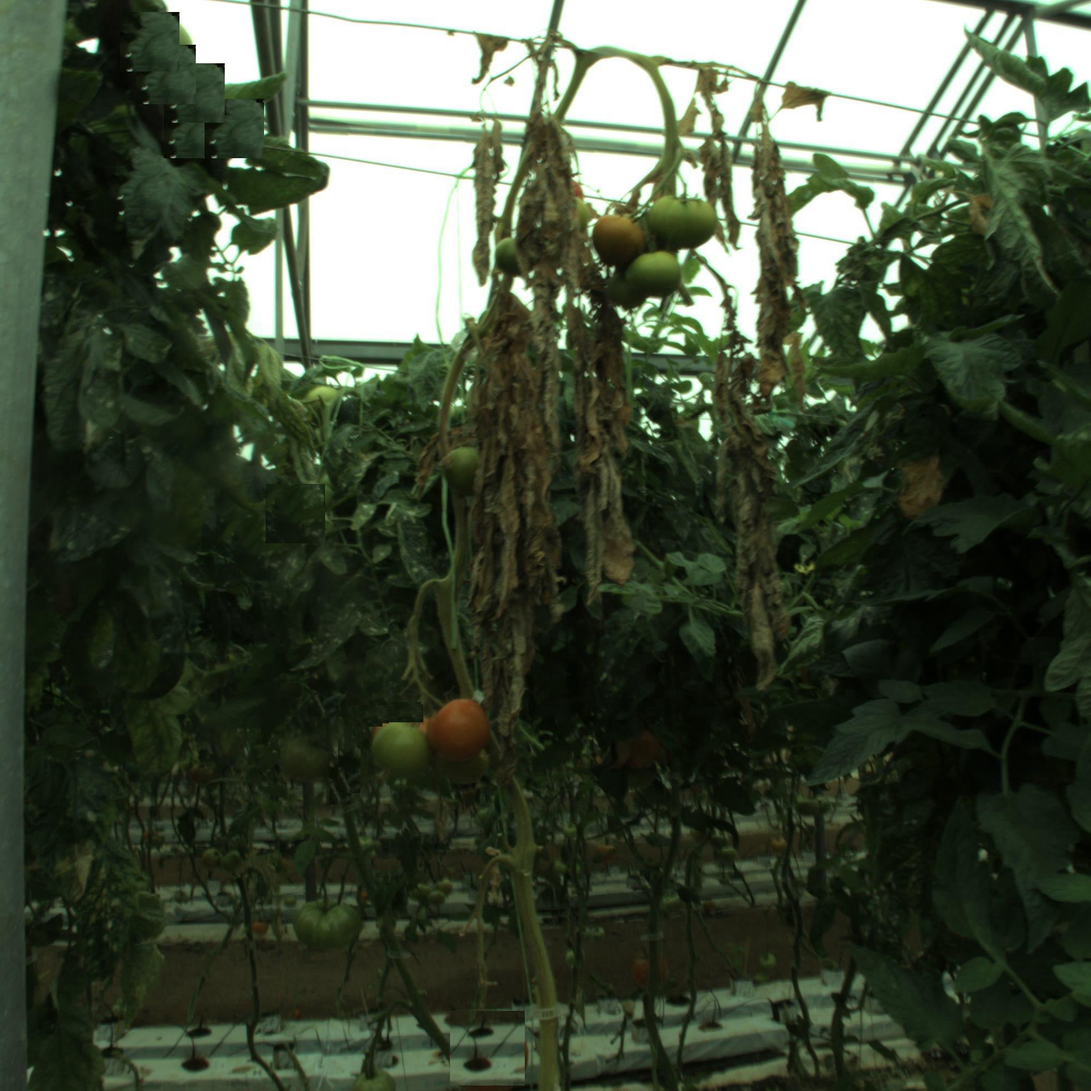fully-ripe: (428, 699, 492, 763)
semi-ripe: (592, 213, 647, 267)
unripe: (295, 896, 355, 956), (368, 721, 428, 781), (654, 190, 714, 250), (630, 245, 685, 301), (442, 445, 487, 490), (283, 736, 327, 781)
